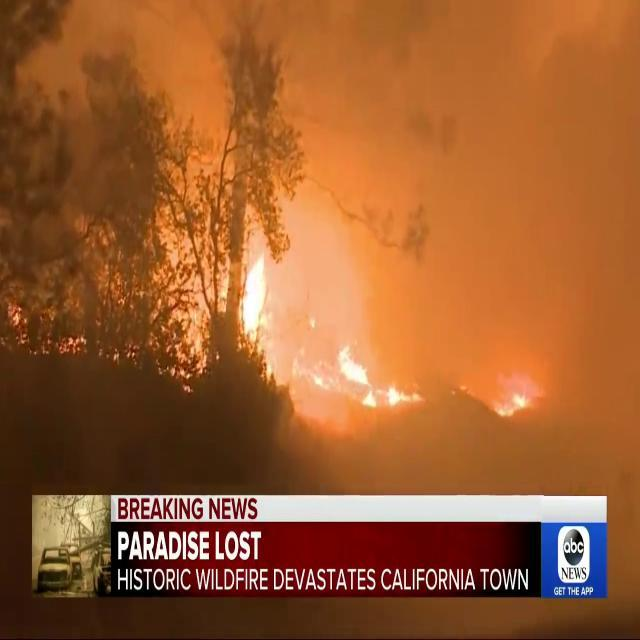Fire: (240, 248, 270, 352), (336, 338, 369, 384), (386, 382, 422, 408), (496, 390, 528, 418), (363, 388, 377, 409)
Smoke: (271, 3, 640, 406)
